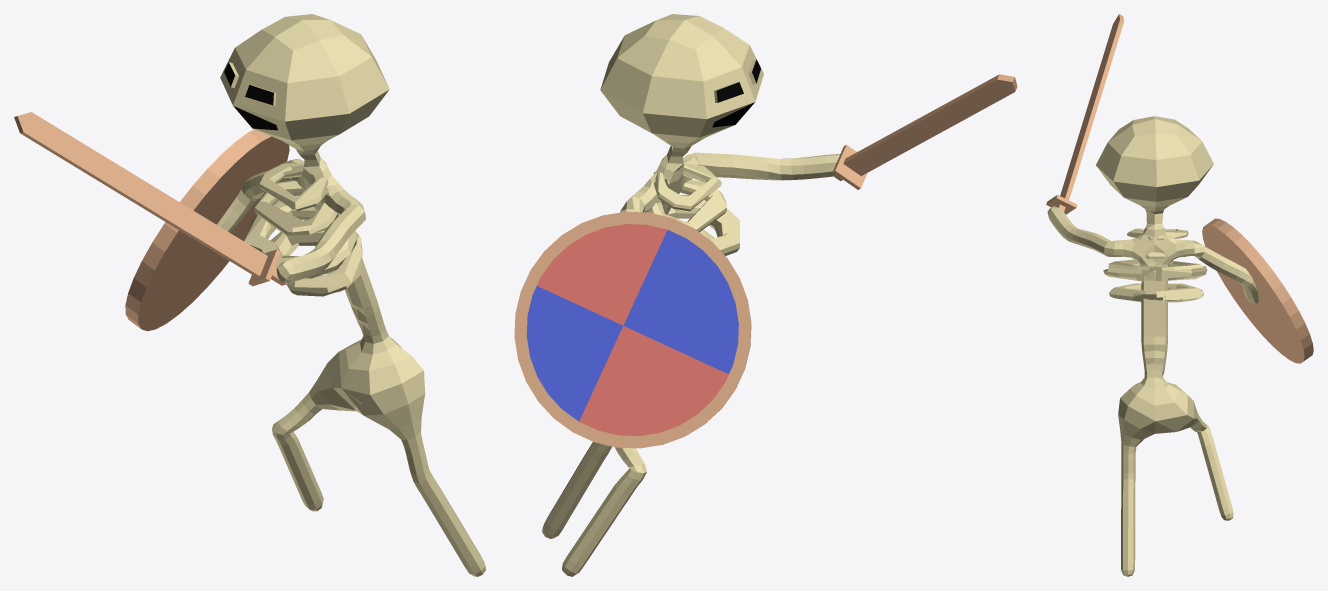
The model's file is dusman_2_poz2 1.fbx.
The picture shows the model from 3 angles, left to right: view 1: azimuth 30°, elevation 25°; view 2: azimuth 150°, elevation 25°; view 3: azimuth 270°, elevation 25°; orthographic projection. The views are drawn at different scales.
Visible parts, largest first — view 1: Plane; view 2: Plane; view 3: Plane.
Boxes of the visible parts, <box> form: Plane: <box>14,14,485,576</box>; Plane: <box>514,14,1017,576</box>; Plane: <box>1046,14,1313,576</box>.
Size of the model in its own units: 1233 by 1440 by 863.
